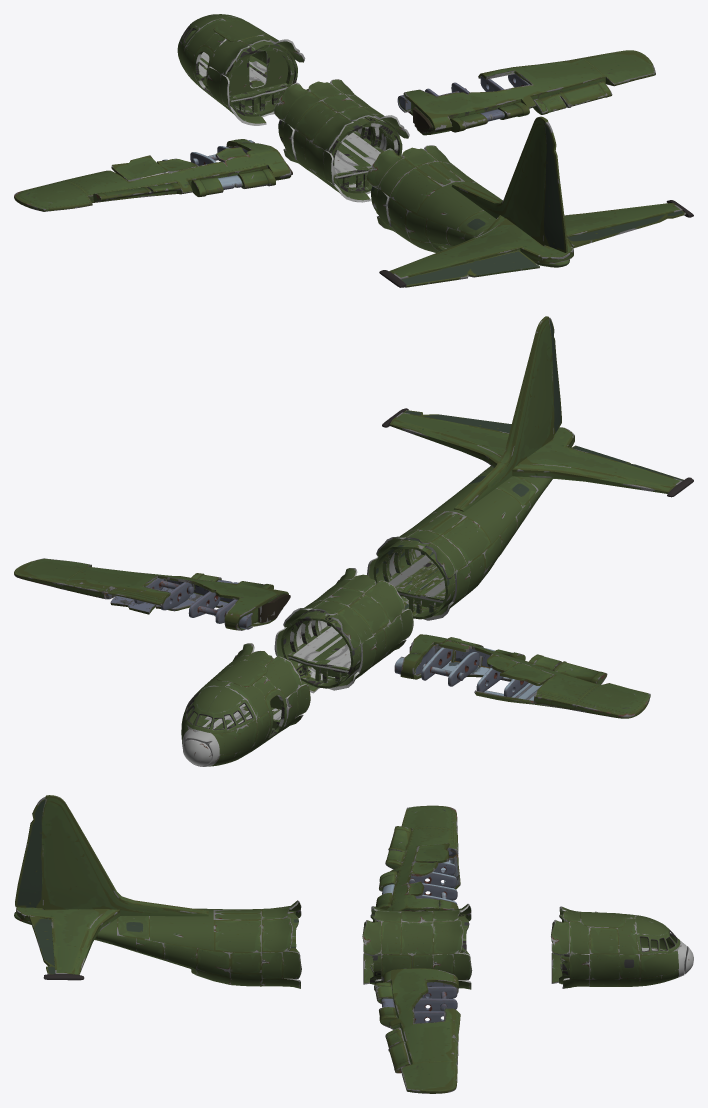
The model's file is fortnite_crashed_plane.glb.
The picture shows the model from 3 angles, top to bottom: view 1: azimuth 30°, elevation 25°; view 2: azimuth 150°, elevation 25°; view 3: azimuth 270°, elevation 25°; orthographic projection. The views are drawn at different scales.
Parts seen in each view (by area): view 1: Fortnite crashed plane_0; view 2: Fortnite crashed plane_0; view 3: Fortnite crashed plane_0.
Boxes of the visible parts, x1,y1,x2,y2 form: Fortnite crashed plane_0: [14, 14, 693, 287]; Fortnite crashed plane_0: [14, 316, 693, 766]; Fortnite crashed plane_0: [14, 795, 693, 1093].
Bounding box in the file's own units: 138 × 43.99 × 143.
Materials: 4 (4 with a texture image).
